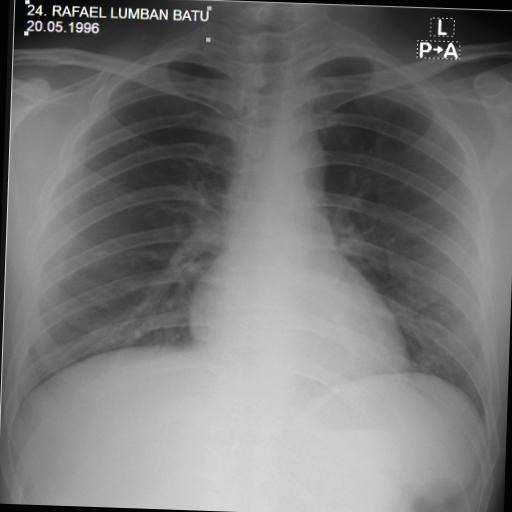normal: (4, 0, 512, 453)
